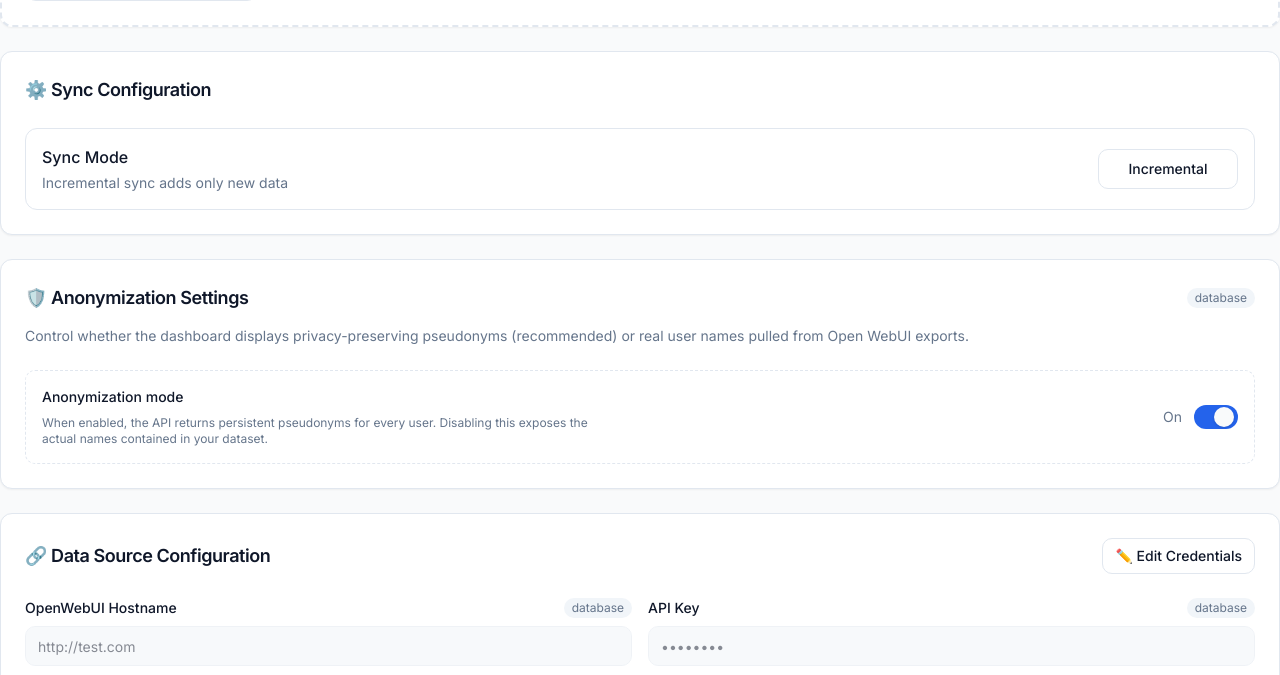
Scenario: ConnectionInfoPanel › Edit Mode › should enable fields when Edit Credentials is clicked
(page scrolled)
Click the button "✏️ Edit Credentials".
click(1179, 556)  # box [1102, 538, 1255, 574]
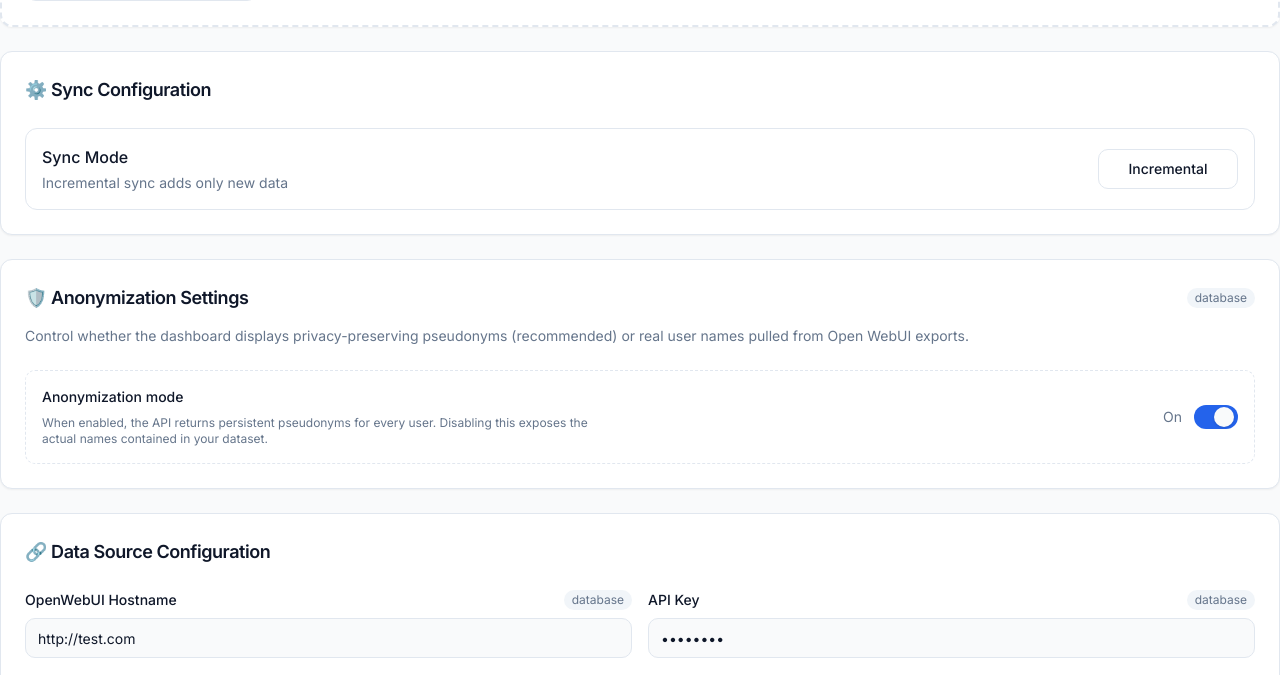
Expected: the field labelled "OpenWebUI Hostname" is enabled, [25, 618, 632, 658]
Expected: the password field labelled "API Key" is enabled, [648, 618, 1255, 658]
